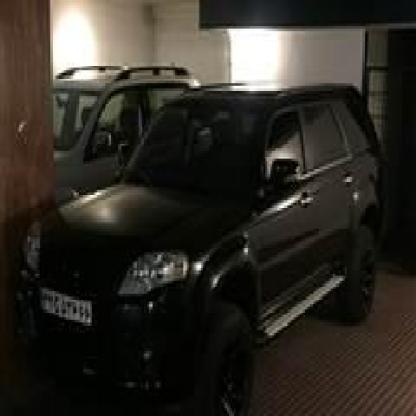Car: (21, 83, 404, 395), (24, 39, 200, 218)
